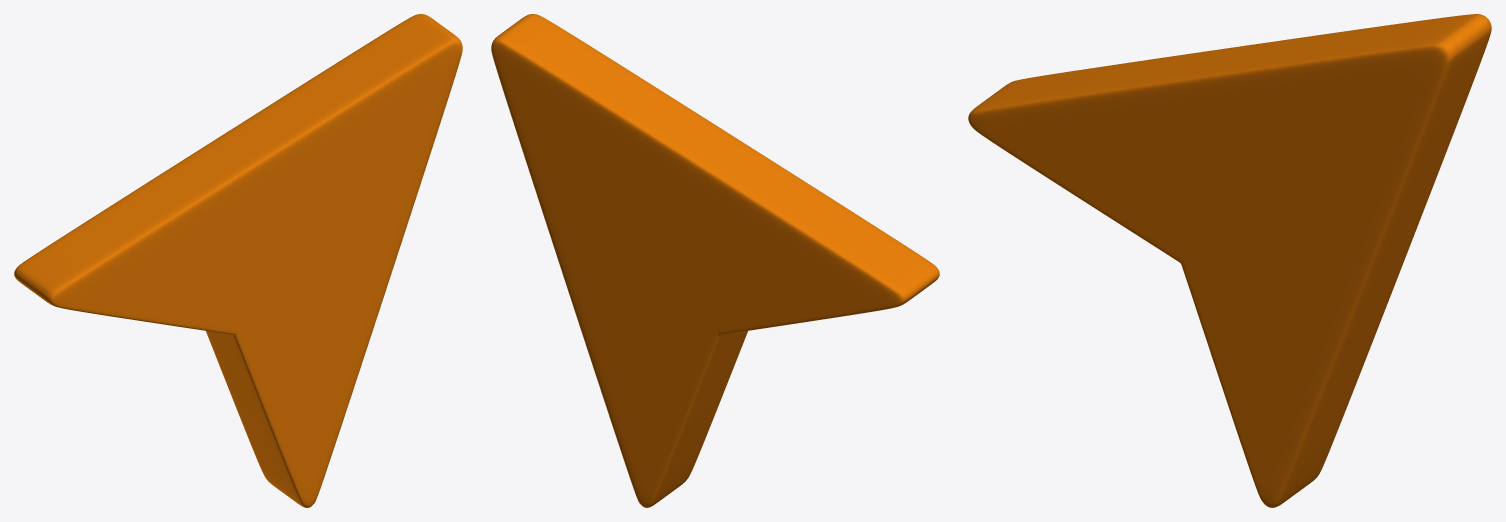
File: location.glb
3 views of the same model, side by side, from view 1: azimuth 30°, elevation 25°; view 2: azimuth 150°, elevation 25°; view 3: azimuth 330°, elevation 25° (orthographic). The views are drawn at different scales.
Parts seen in each view (by area): view 1: Circle.020; view 2: Circle.020; view 3: Circle.020.
Part boxes in pixels (x1,y1,x2,y2): Circle.020: [14, 14, 462, 507]; Circle.020: [491, 14, 939, 507]; Circle.020: [968, 14, 1491, 507].
Size of the model in its own units: 1.79 by 1.79 by 0.2916.
